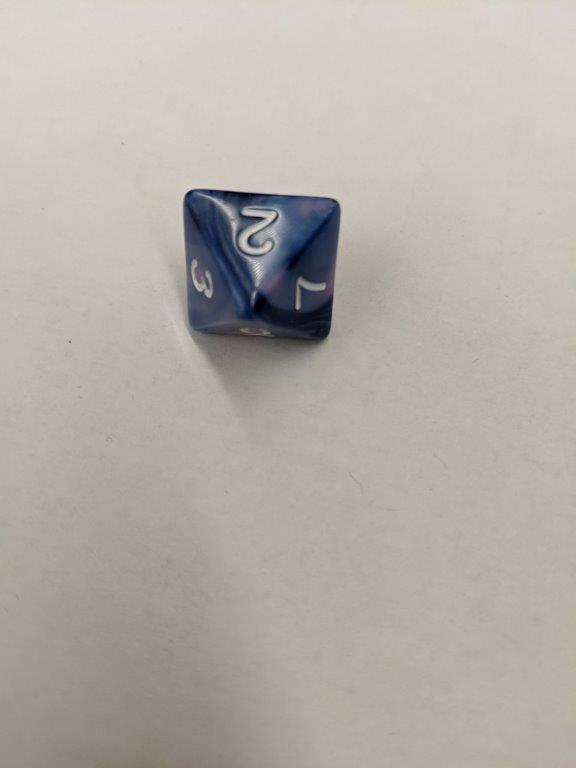d8-2: (182, 187, 344, 344)
